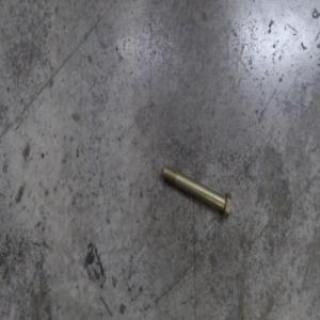Bolttrack_idkeyframe: (160, 160, 232, 220)
